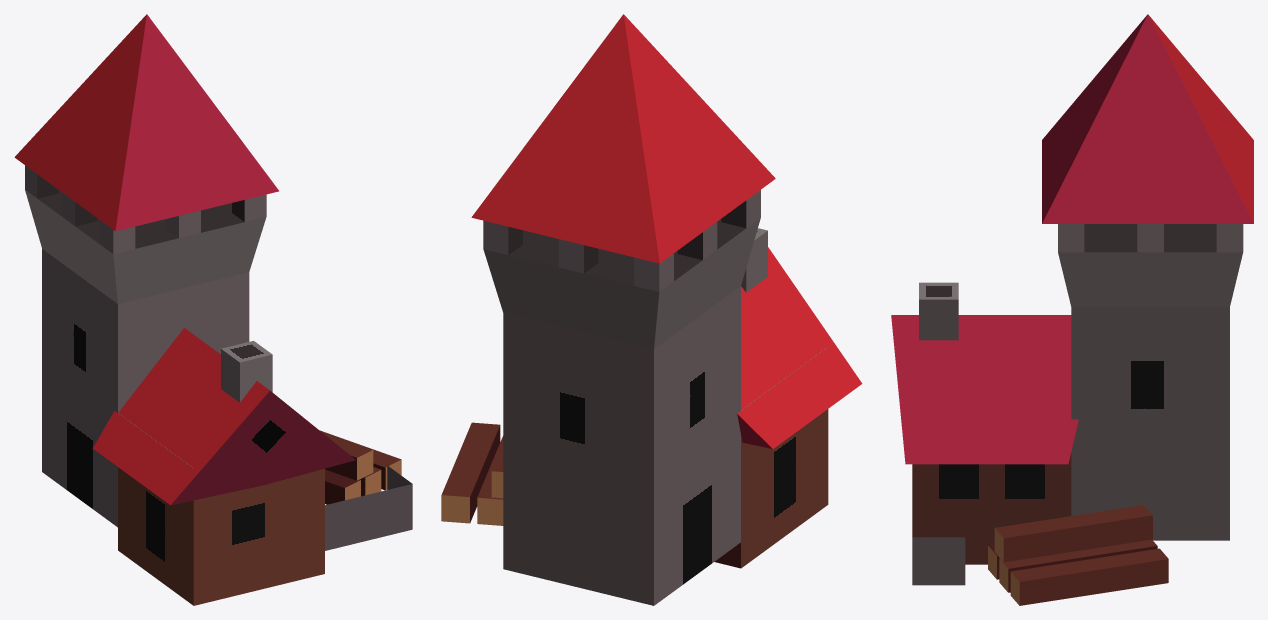
The model's file is forest_house_2.gltf.
3 views of the same model, side by side, from view 1: azimuth 30°, elevation 25°; view 2: azimuth 150°, elevation 25°; view 3: azimuth 270°, elevation 25° (orthographic). The views are drawn at different scales.
Parts seen in each view (by area): view 1: Forest_house_2, pyramid, plane, group22; view 2: Forest_house_2, pyramid, group22; view 3: Forest_house_2, pyramid, group22, plane.
Boxes of the visible parts, bbox=[...] form: Forest_house_2: bbox=[25, 165, 355, 605]; pyramid: bbox=[14, 14, 278, 231]; plane: bbox=[325, 484, 412, 550]; group22: bbox=[320, 430, 401, 504]; Forest_house_2: bbox=[483, 190, 862, 605]; pyramid: bbox=[471, 14, 775, 263]; group22: bbox=[441, 422, 503, 525]; Forest_house_2: bbox=[891, 224, 1243, 564]; pyramid: bbox=[1042, 14, 1253, 223]; group22: bbox=[988, 505, 1168, 605]; plane: bbox=[912, 537, 965, 585].
Bounding box in the file's own units: 0.8159 × 1.35 × 0.8562.
Materials: 1 (1 with a texture image).
